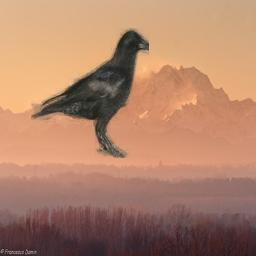Crow: (31, 28, 149, 158)
